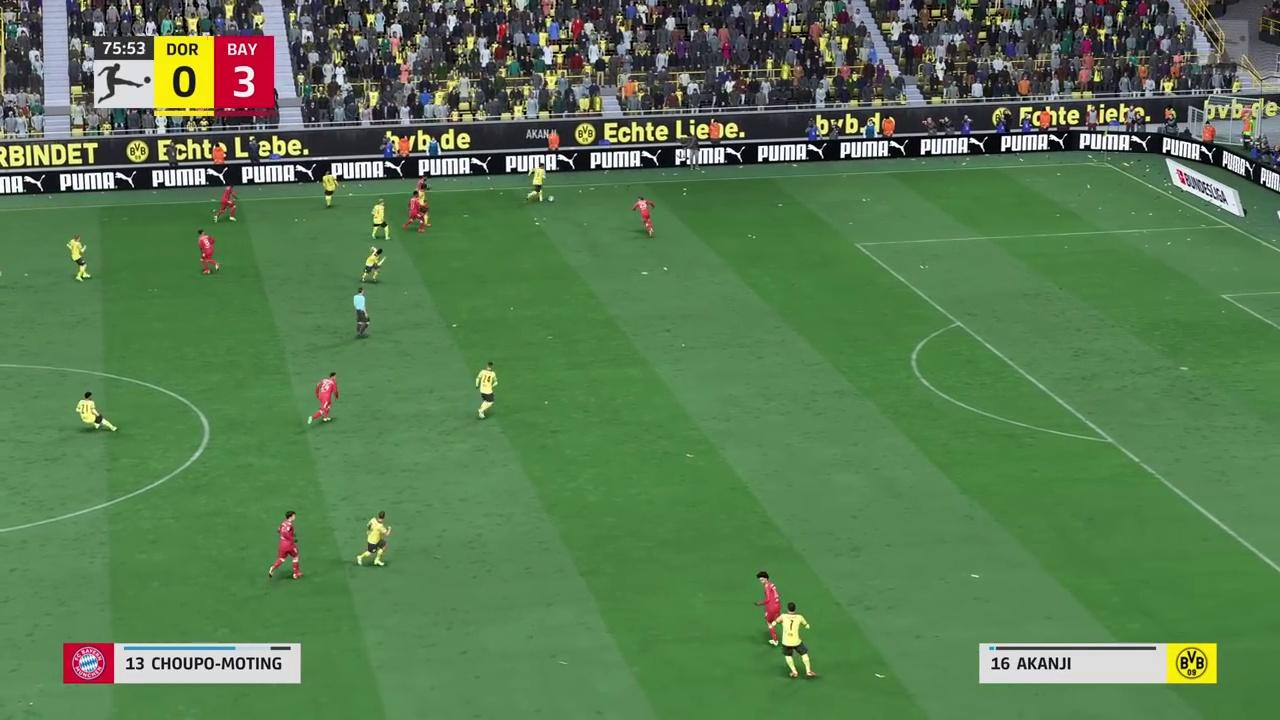scoreboard: (155, 37, 274, 116)
timestamp: (99, 38, 153, 60)
